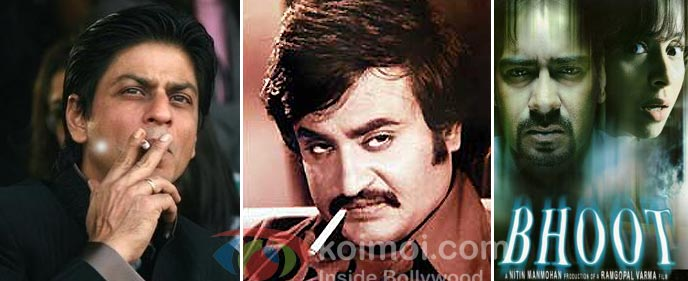cigarette: (310, 208, 348, 252), (141, 137, 150, 152)
